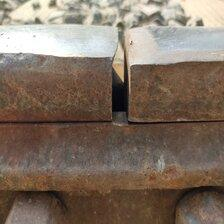railway-gap: (54, 16, 187, 135)
